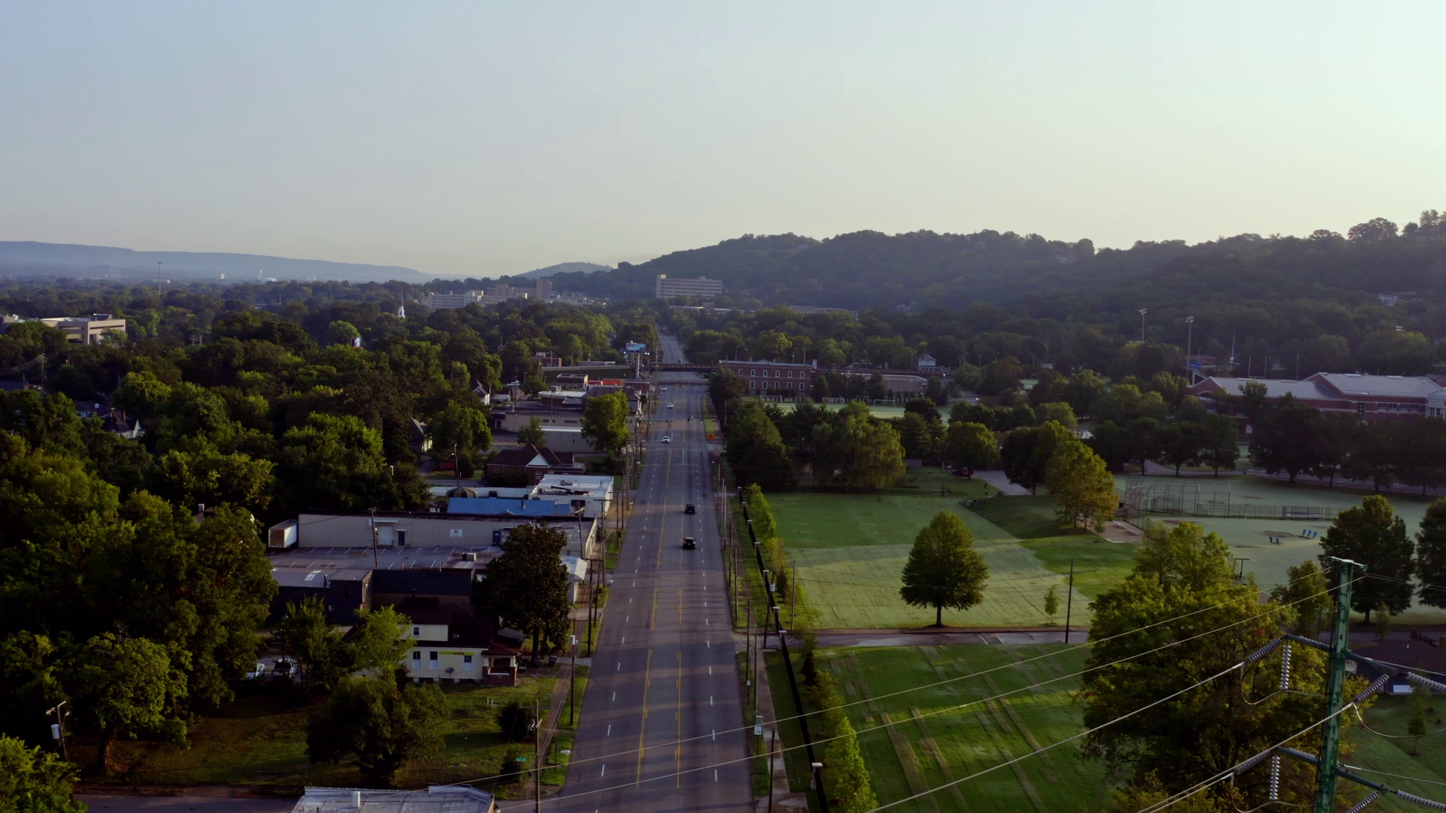Vehicle: (271, 658, 300, 684), (246, 661, 266, 681), (682, 537, 696, 550), (685, 504, 695, 514), (662, 436, 670, 443), (667, 403, 673, 408), (661, 387, 667, 391), (679, 359, 682, 361)
